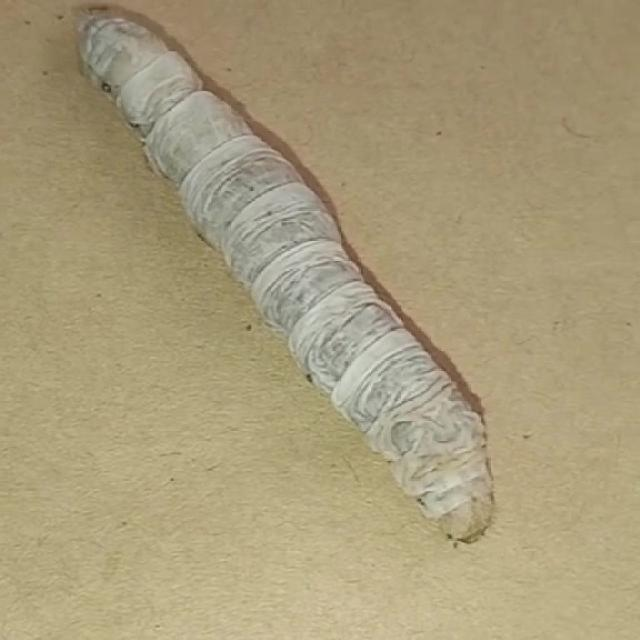Grasserie: (62, 5, 511, 549)
